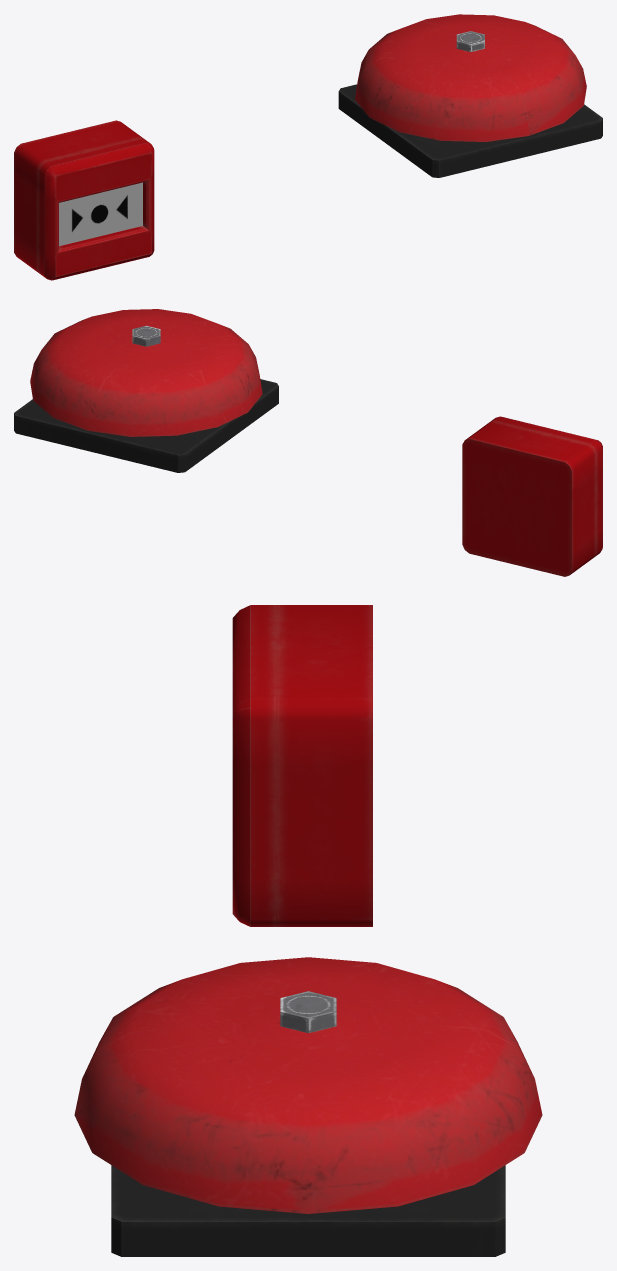
The model's file is firebell__mcp.glb.
3 renders of one model, top to bottom at view 1: azimuth 30°, elevation 25°; view 2: azimuth 150°, elevation 25°; view 3: azimuth 270°, elevation 25°, orthographic. The views are drawn at different scales.
Parts seen in each view (by area): view 1: MCP_lowpoly; view 2: MCP_lowpoly; view 3: MCP_lowpoly.
Boxes of the visible parts, x1,y1,x2,y2 form: MCP_lowpoly: (14,14,602,280); MCP_lowpoly: (14,309,602,576); MCP_lowpoly: (74,605,542,1256).
Bounding box in the file's own units: 42.13 × 9.37 × 15.75.
1 material, 1 textured.
